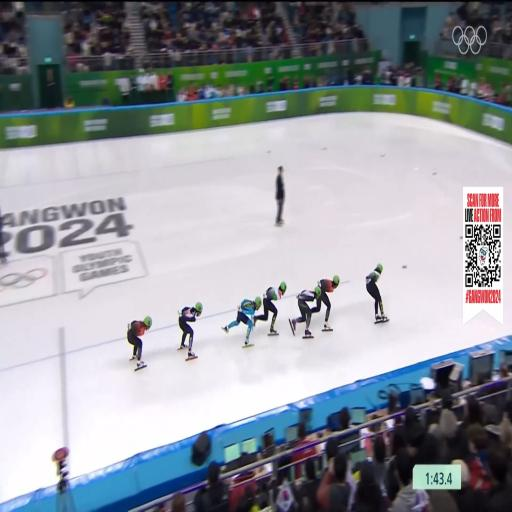Skater: (223, 297, 261, 347), (289, 286, 321, 338), (255, 282, 286, 335), (312, 275, 339, 330), (127, 316, 152, 370), (179, 302, 202, 360), (366, 264, 387, 322)
